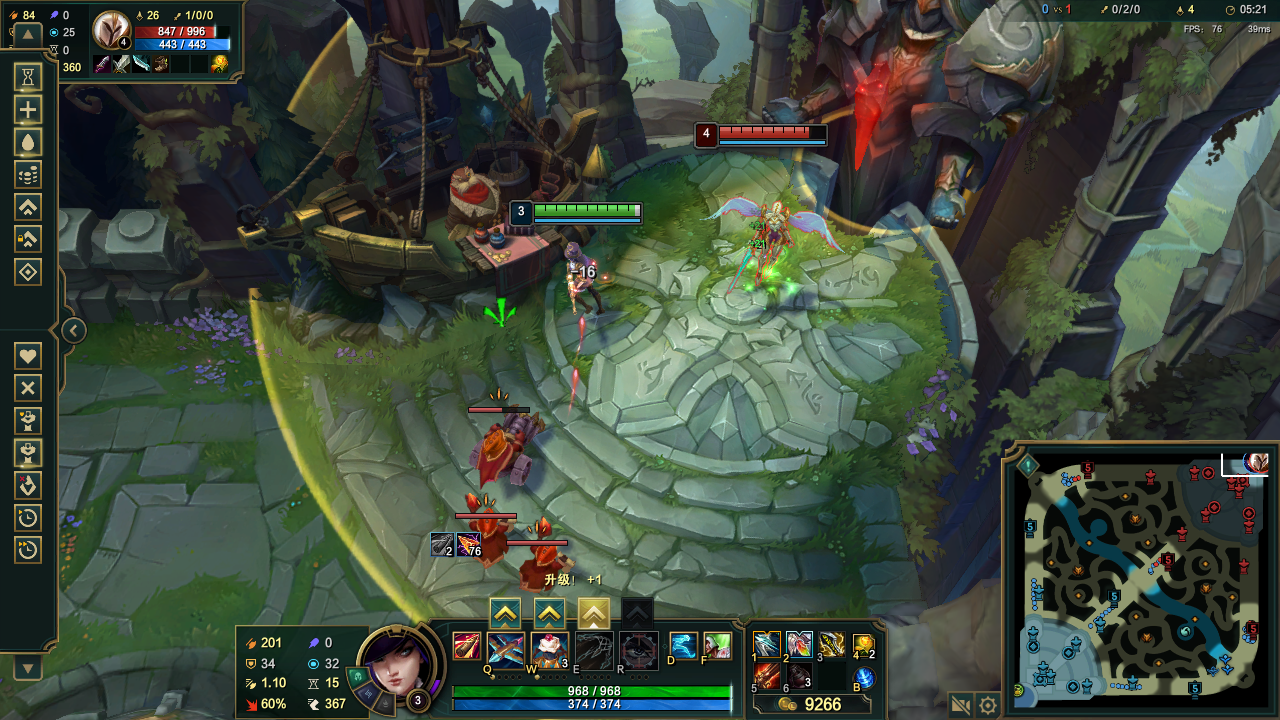DFYX: (717, 123, 828, 138)
